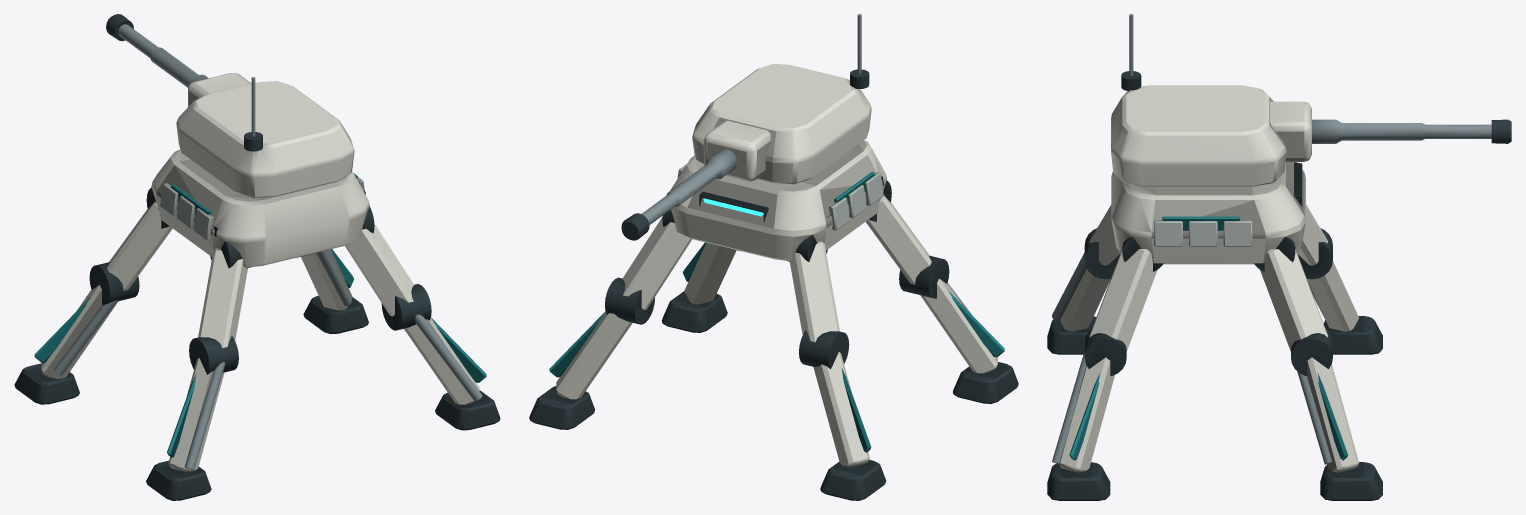
Rendered from LancerWalker.glb.
3 views of the same model, side by side, from view 1: azimuth 30°, elevation 25°; view 2: azimuth 150°, elevation 25°; view 3: azimuth 270°, elevation 25° (orthographic). The views are drawn at different scales.
Visible parts, largest first — view 1: export_LancerWalker_GunPod, export_LancerWalker_Body, export_LancerWalker_KneeJoint, export_LancerWalker_KneeJoint.002, export_LancerWalker_KneeJoint.001, export_LancerWalker_HipJoint, export_LancerWalker_HipJoint.002, export_LancerWalker_GunMantlet, export_LancerWalker_HipJoint.001, export_LancerWalker_KneeJoint.003, export_LancerWalker_Foot, export_LancerWalker_Foot.001 (+2 smaller); view 2: export_LancerWalker_Body, export_LancerWalker_GunPod, export_LancerWalker_GunMantlet, export_LancerWalker_KneeJoint.001, export_LancerWalker_KneeJoint.003, export_LancerWalker_KneeJoint, export_LancerWalker_HipJoint.001, export_LancerWalker_HipJoint.003, export_LancerWalker_HipJoint, export_LancerWalker_KneeJoint.002, export_LancerWalker_Foot.001, export_LancerWalker_Foot.003 (+2 smaller); view 3: export_LancerWalker_GunPod, export_LancerWalker_Body, export_LancerWalker_GunMantlet, export_LancerWalker_KneeJoint.002, export_LancerWalker_KneeJoint.003, export_LancerWalker_HipJoint.003, export_LancerWalker_HipJoint.002, export_LancerWalker_KneeJoint, export_LancerWalker_KneeJoint.001, export_LancerWalker_Foot.002, export_LancerWalker_Foot.003, export_LancerWalker_Foot.001 (+3 smaller).
Boxes of the visible parts, x1=… form: export_LancerWalker_GunPod: x1=176, y1=77, x2=354, y2=198; export_LancerWalker_Body: x1=151, y1=149, x2=369, y2=267; export_LancerWalker_KneeJoint: x1=167, y1=336, x2=238, y2=472; export_LancerWalker_KneeJoint.002: x1=381, y1=284, x2=486, y2=404; export_LancerWalker_KneeJoint.001: x1=34, y1=262, x2=139, y2=378; export_LancerWalker_HipJoint: x1=198, y1=241, x2=251, y2=348; export_LancerWalker_HipJoint.002: x1=345, y1=206, x2=413, y2=316; export_LancerWalker_GunMantlet: x1=106, y1=14, x2=251, y2=106; export_LancerWalker_HipJoint.001: x1=107, y1=187, x2=172, y2=290; export_LancerWalker_KneeJoint.003: x1=297, y1=249, x2=353, y2=310; export_LancerWalker_Foot: x1=146, y1=460, x2=211, y2=500; export_LancerWalker_Foot.001: x1=14, y1=363, x2=79, y2=404; export_LancerWalker_Body: x1=670, y1=140, x2=886, y2=261; export_LancerWalker_GunPod: x1=692, y1=14, x2=871, y2=184; export_LancerWalker_GunMantlet: x1=621, y1=120, x2=770, y2=240; export_LancerWalker_KneeJoint.001: x1=799, y1=330, x2=871, y2=467; export_LancerWalker_KneeJoint.003: x1=549, y1=277, x2=654, y2=399; export_LancerWalker_KneeJoint: x1=899, y1=255, x2=1004, y2=373; export_LancerWalker_HipJoint.001: x1=786, y1=235, x2=839, y2=342; export_LancerWalker_HipJoint.003: x1=622, y1=210, x2=692, y2=310; export_LancerWalker_HipJoint: x1=866, y1=180, x2=931, y2=284; export_LancerWalker_KneeJoint.002: x1=683, y1=242, x2=740, y2=304; export_LancerWalker_Foot.001: x1=820, y1=459, x2=886, y2=500; export_LancerWalker_Foot.003: x1=529, y1=386, x2=594, y2=429; export_LancerWalker_GunPod: x1=1111, y1=14, x2=1286, y2=186; export_LancerWalker_Body: x1=1111, y1=162, x2=1305, y2=264; export_LancerWalker_GunMantlet: x1=1270, y1=101, x2=1511, y2=161; export_LancerWalker_KneeJoint.002: x1=1052, y1=329, x2=1126, y2=472; export_LancerWalker_KneeJoint.003: x1=1291, y1=328, x2=1358, y2=472; export_LancerWalker_HipJoint.003: x1=1254, y1=237, x2=1327, y2=351; export_LancerWalker_HipJoint.002: x1=1089, y1=237, x2=1163, y2=351; export_LancerWalker_KneeJoint: x1=1052, y1=228, x2=1119, y2=331; export_LancerWalker_KneeJoint.001: x1=1297, y1=228, x2=1358, y2=331; export_LancerWalker_Foot.002: x1=1047, y1=462, x2=1110, y2=500; export_LancerWalker_Foot.003: x1=1320, y1=462, x2=1382, y2=500; export_LancerWalker_Foot.001: x1=1324, y1=316, x2=1382, y2=354.
Size of the model in its own units: 3.61 by 3.78 by 4.19.
